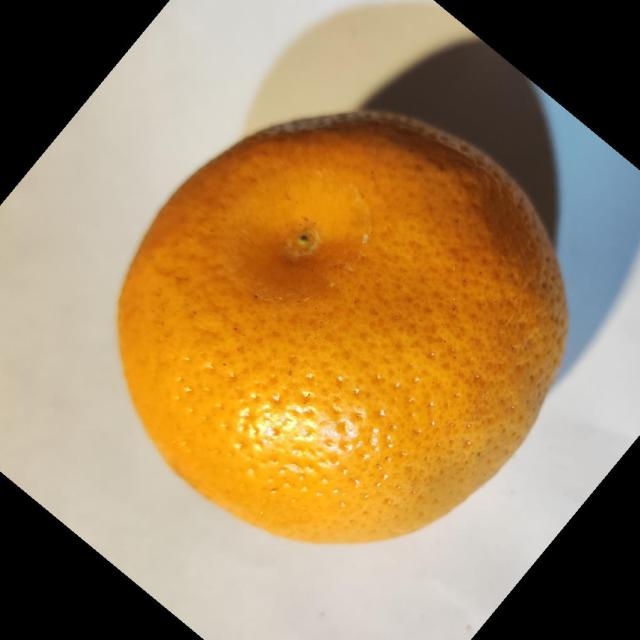fresh orange: (116, 108, 569, 544)
